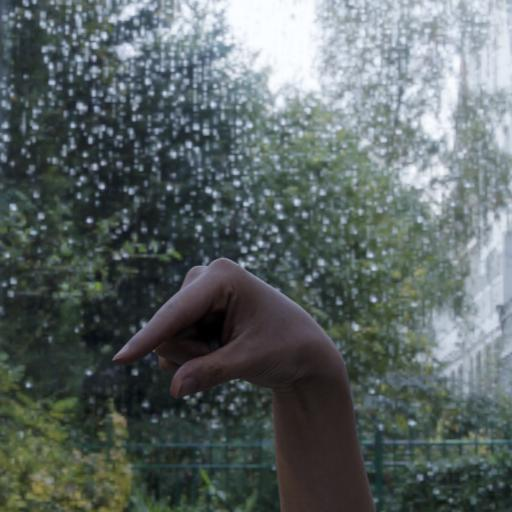Q: (108, 254, 351, 402)
